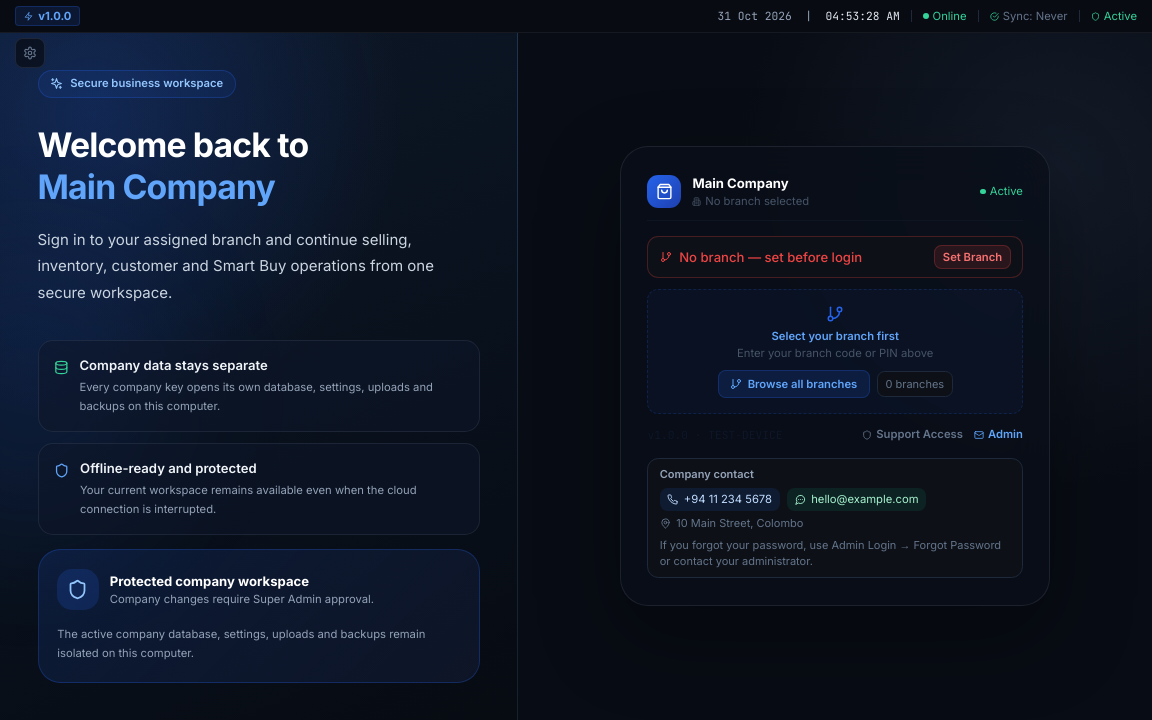
Test case: LoginPage company contact details › shows contact details in every login mode and refreshes contact-only changes
Expected: the link "+94 11 234 5678" is shown, [660,488,780,511]
Expected: the link "hello@example.com" is shown, [787,488,926,511]
Click the button "Admin" at (999, 435), box [974,428,1023,442]
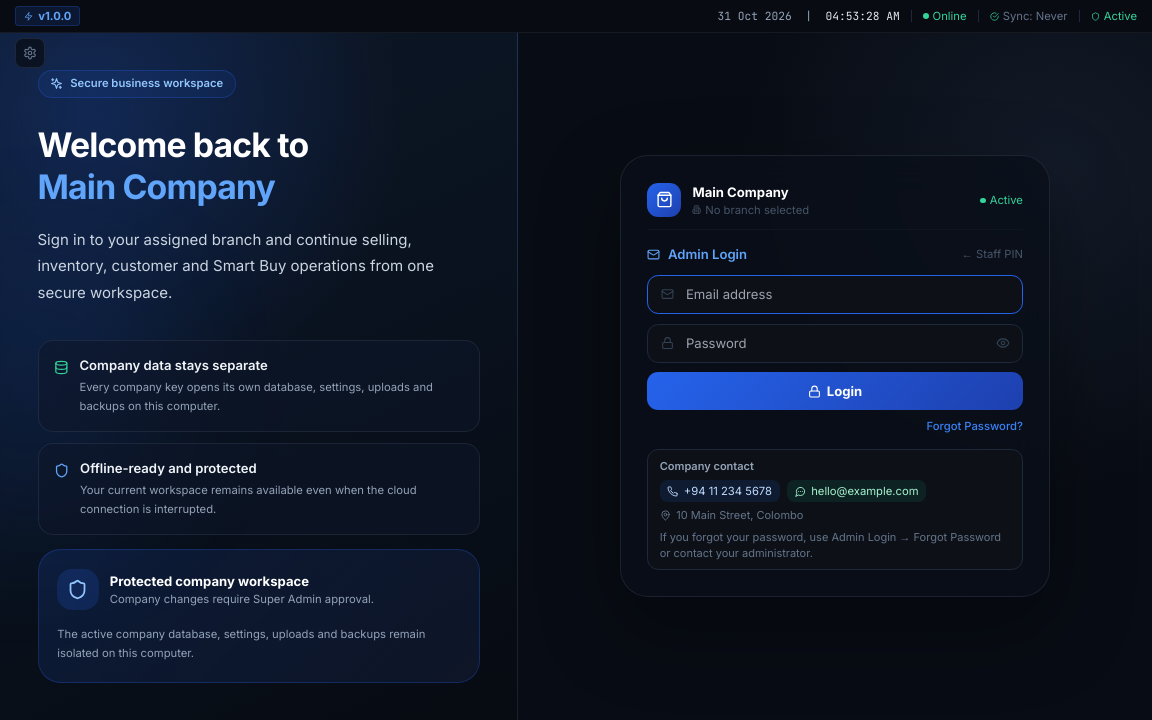
Expected: the link "+94 11 234 5678" is shown, [660,480,780,502]
Expected: the link "hello@example.com" is shown, [787,480,926,502]
Click the button "← Staff PIN" at (992, 254), box [962,247,1023,262]
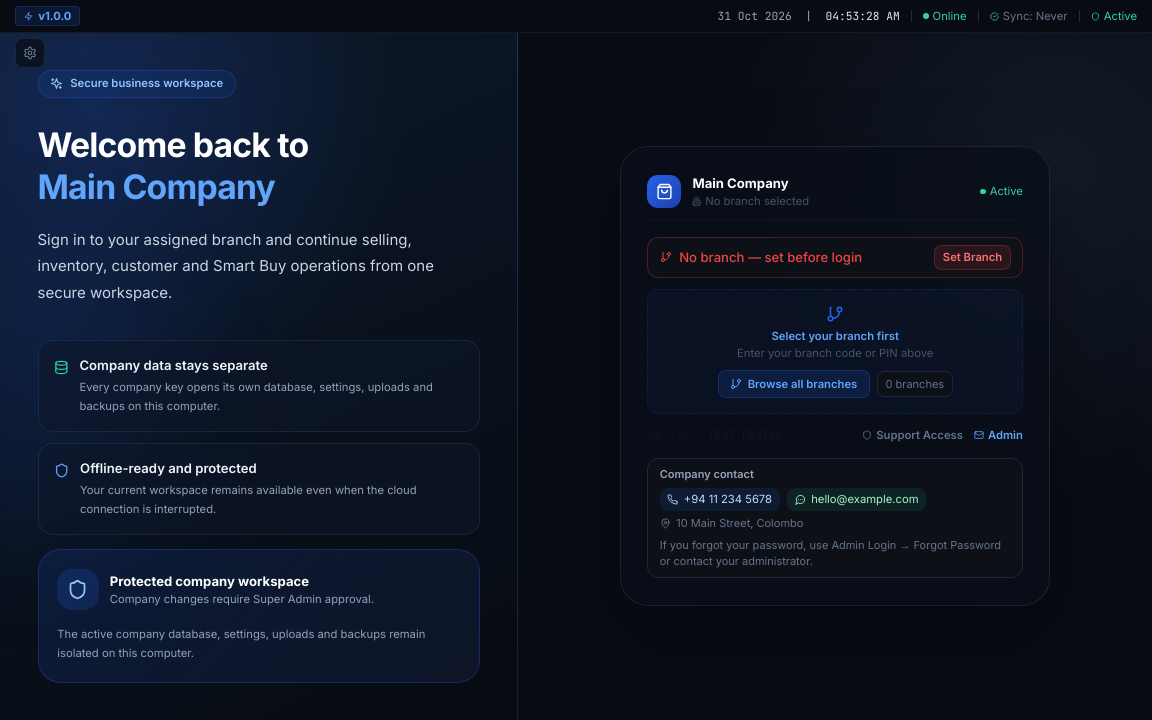
Click the button "Support Access" at (913, 435), box [862,428,963,442]
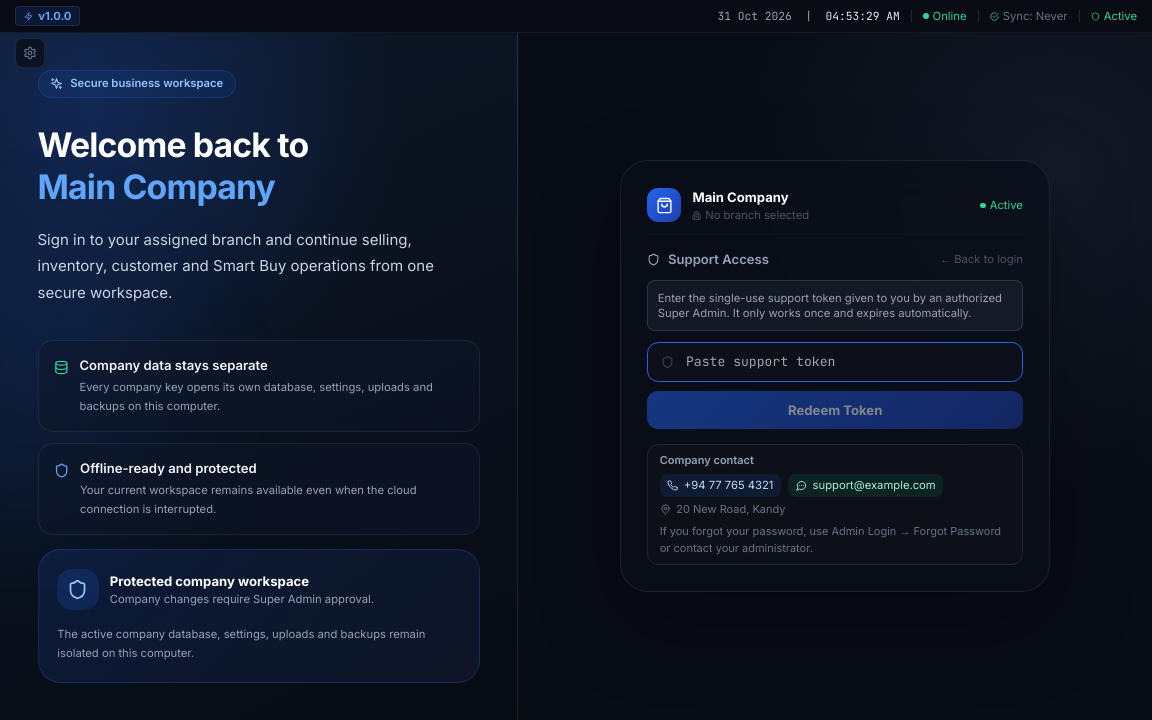
Expected: the link "+94 77 765 4321" is shown, [660,474,781,497]
Expected: the link "support@example.com" is shown, [788,474,943,497]
Expected: the text "20 New Road, Kandy" is shown, [676,502,786,517]
